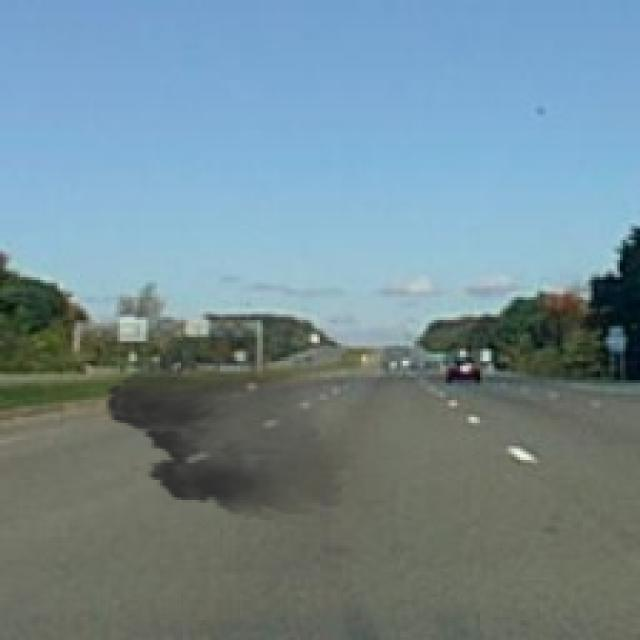smoke: (94, 314, 363, 520)
